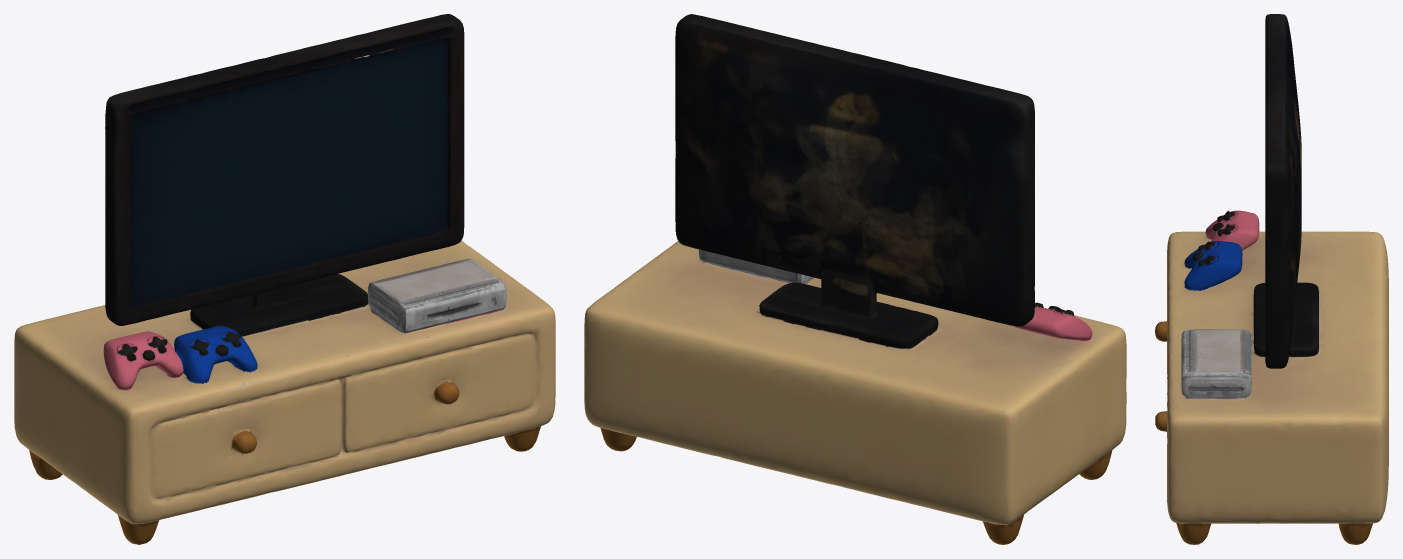
Rendered from bilik_console.glb.
The picture shows the model from 3 angles, left to right: view 1: azimuth 30°, elevation 25°; view 2: azimuth 150°, elevation 25°; view 3: azimuth 270°, elevation 25°; orthographic projection. The views are drawn at different scales.
Size of the model in its own units: 1 by 0.9037 by 0.5172.
1 material, 1 textured.
